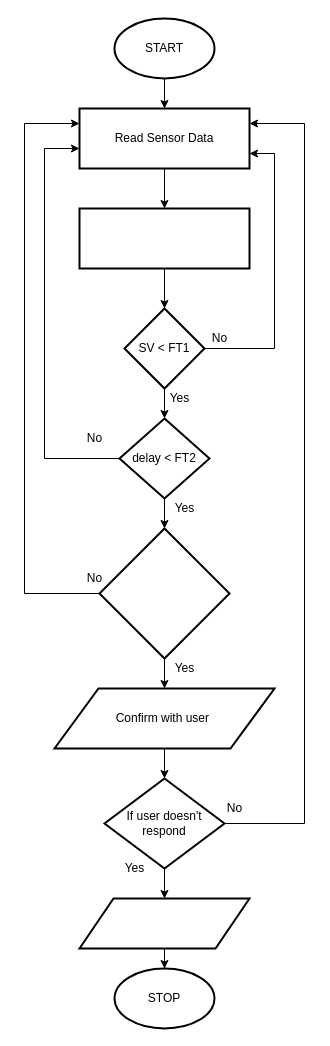
The diagram is 330 pixels wide and 1046 high, and some of its shapes have lost their labels. The centre of each missing label's shape, as x and y in pixels:
Alert the emergency contacts: the point at 164,923
Calculate Total Sum Acceleration Vector (SV) and Tilt (teta): the point at 164,238
SV > FT3 && teta > FT4: the point at 164,593
